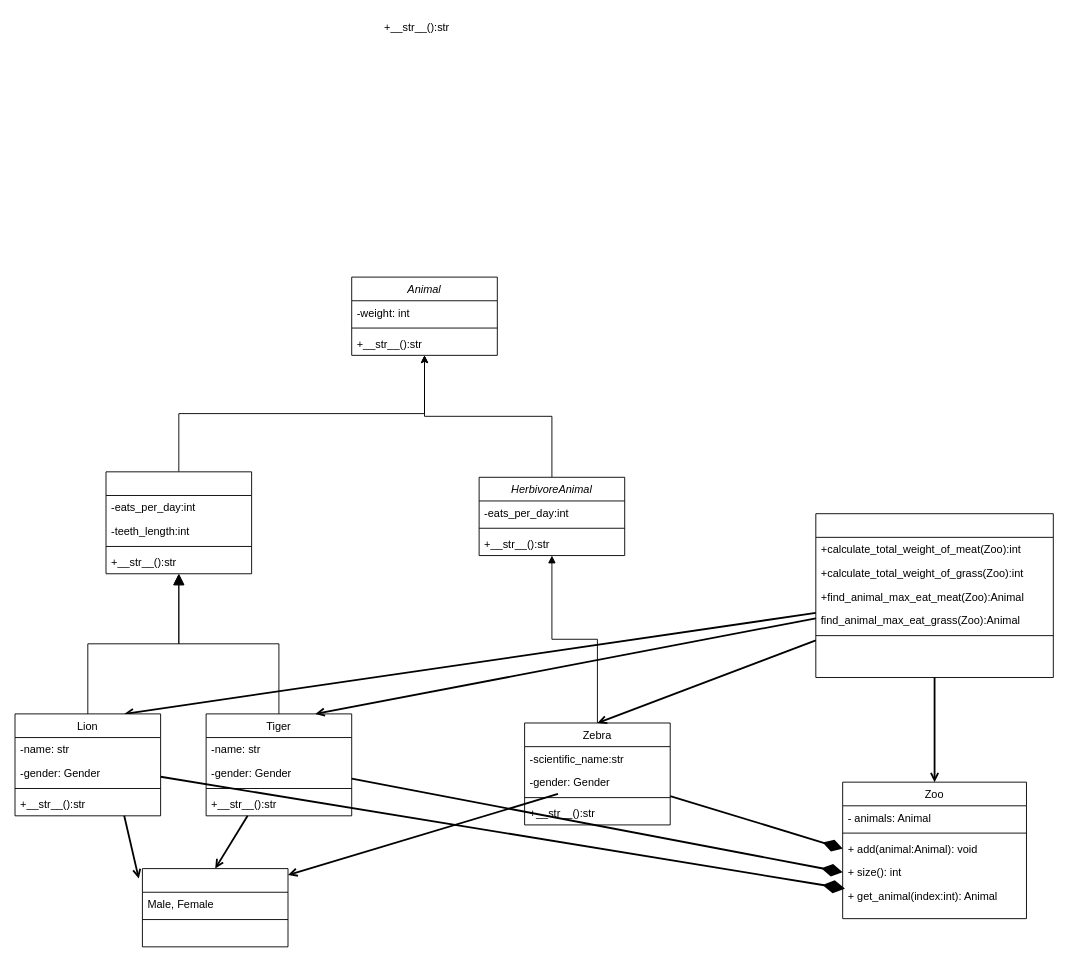
This 1068x962 diagram has some shape labels left out. Each missing label, with the box of its shape:
CarnivoreAnimal: (105, 471, 252, 574)
Gender: (142, 868, 288, 947)
ZooAssistance: (815, 513, 1053, 677)
